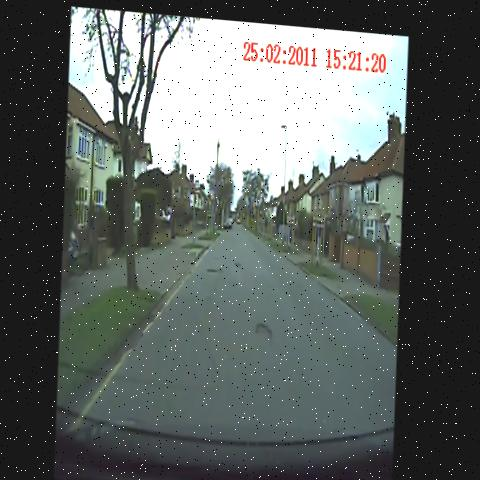pothole: (255, 304, 284, 346), (204, 256, 225, 279), (230, 252, 246, 273)
